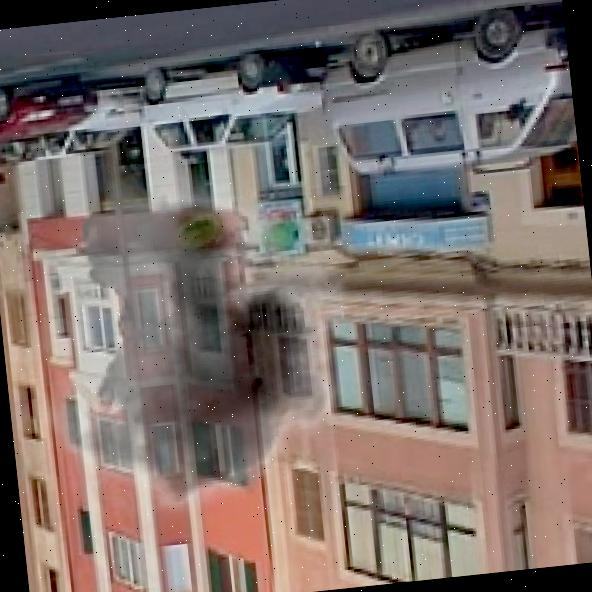smoke: (0, 149, 390, 549)
